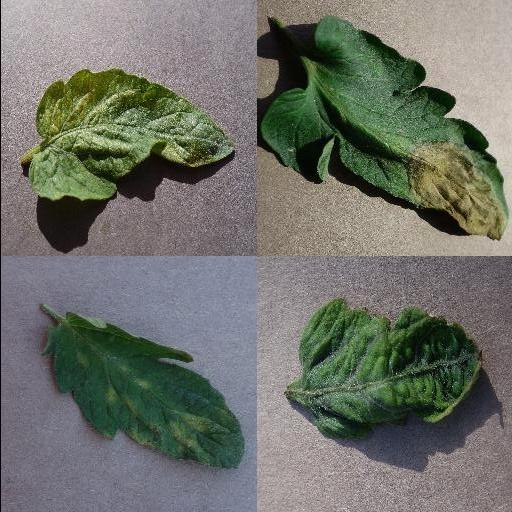Late Blight: (256, 16, 510, 242)
Leaf Mold: (39, 313, 245, 469)
Spider Mites: (29, 69, 233, 201)
Yellow Leaf Curl Virus: (293, 299, 483, 441)
